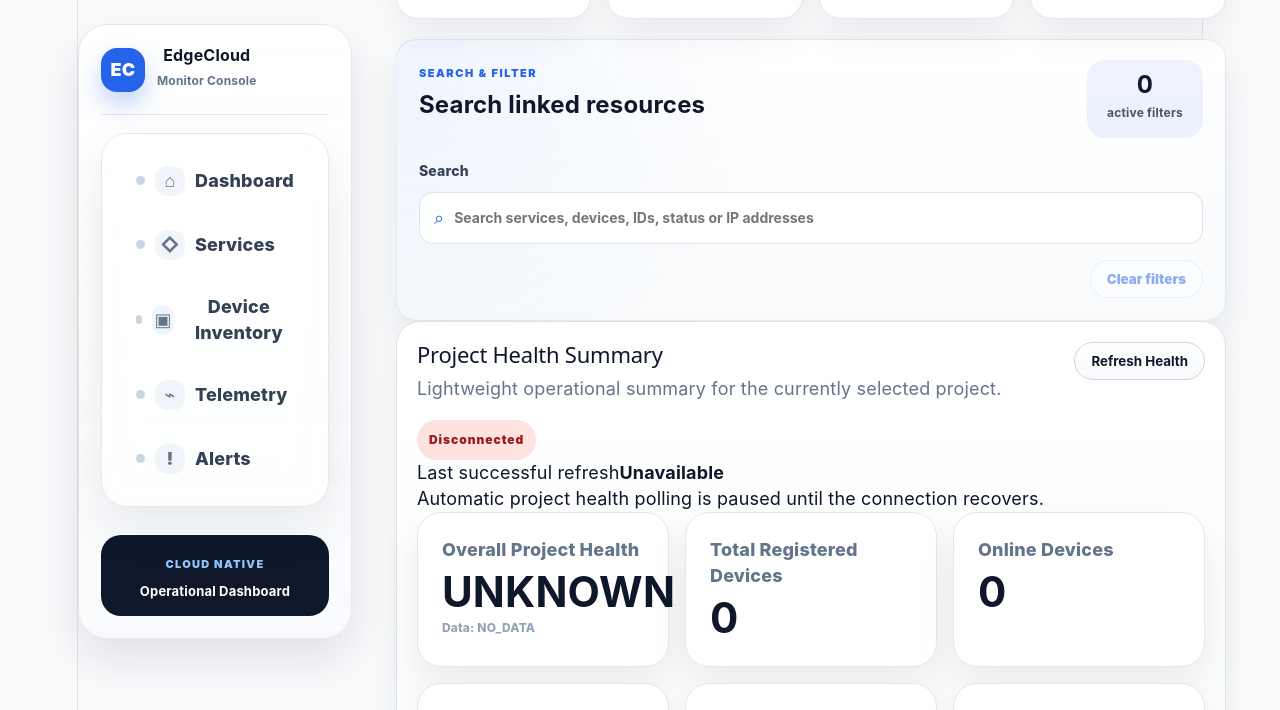
Test case: ProjectWorkspacePage › refreshes the health summary manually
(page scrolled)
Expected: the text "UNKNOWN" is shown, x1=442 y1=579 x2=644 y2=605
Click the button "Refresh Health". click: (1140, 361)
box: x1=1074 y1=342 x2=1205 y2=380
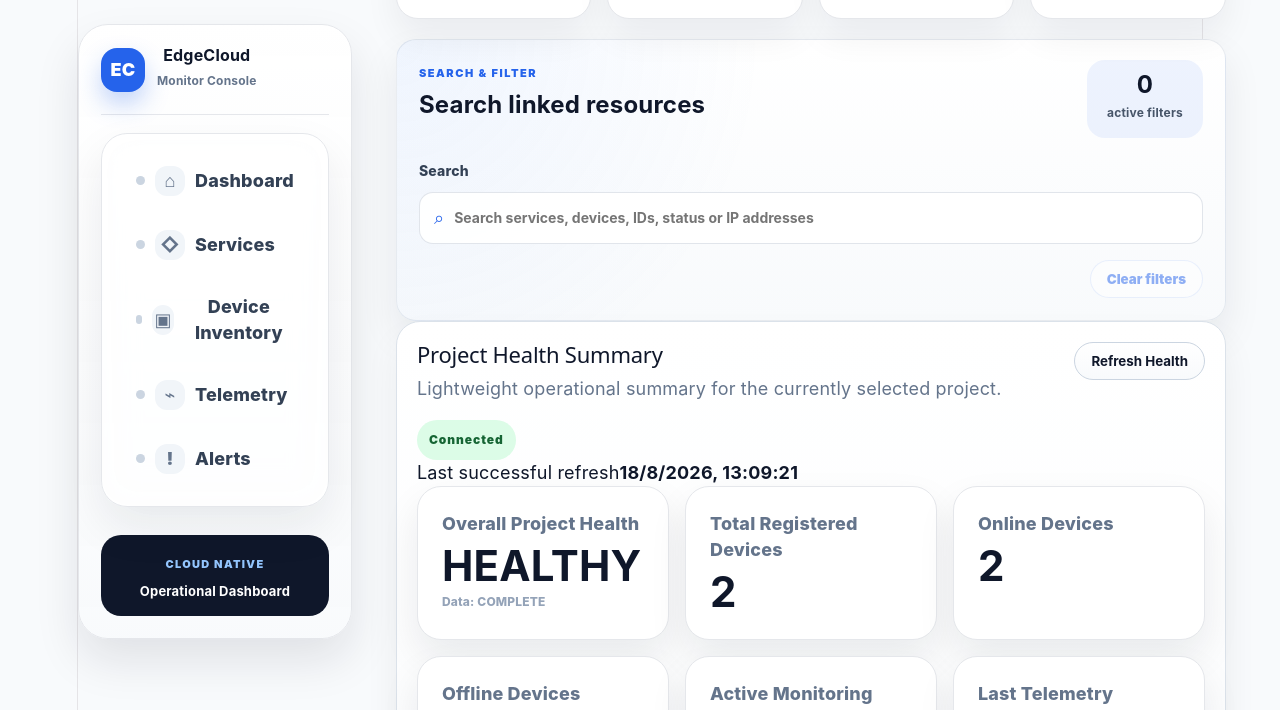
Expected: the text "HEALTHY" is shown, x1=442 y1=553 x2=644 y2=579
